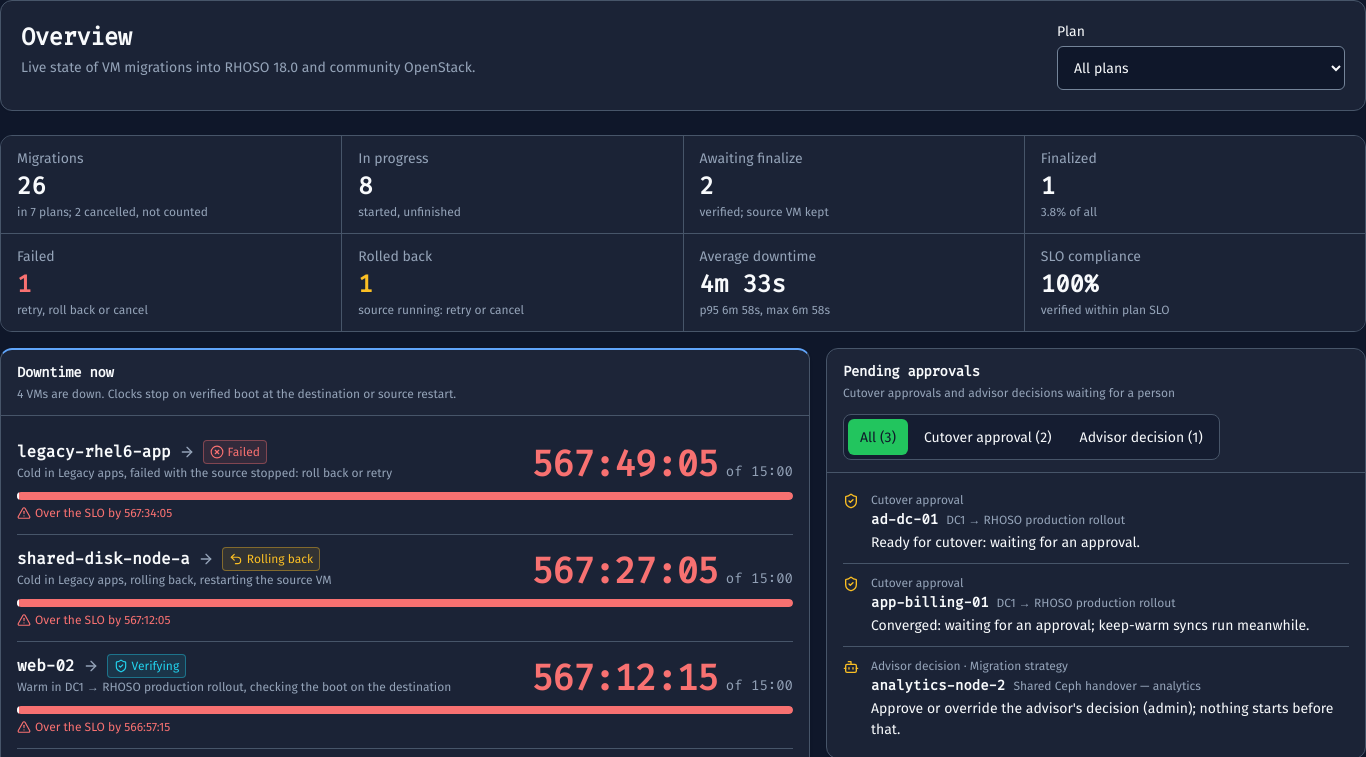
Test case: Overview page (mock data) › scopes the dashboard to one plan
Select "VMware exit — ERP" in the dropdown labelled "Plan": (1201, 68) [1057,46,1345,90]
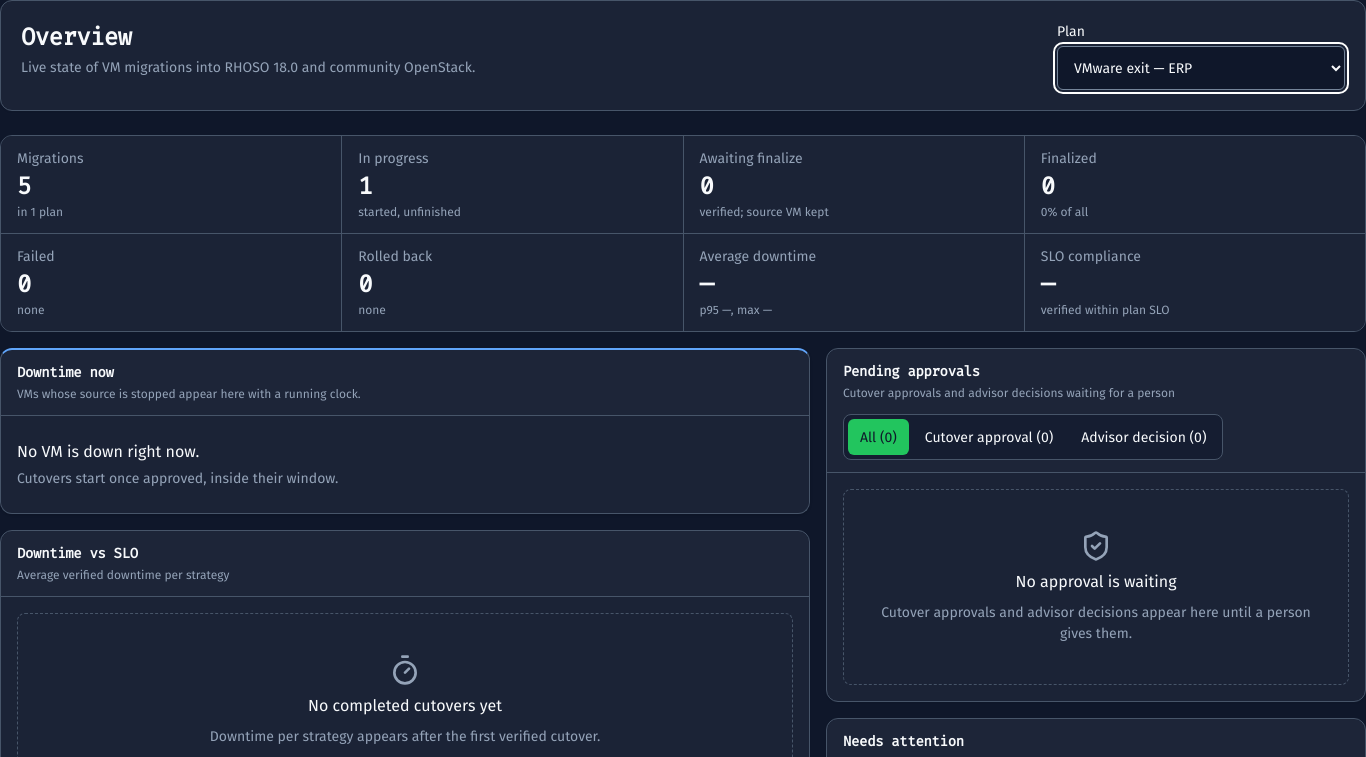
Check: the text "5" is shown, box [17,170,31,202]
